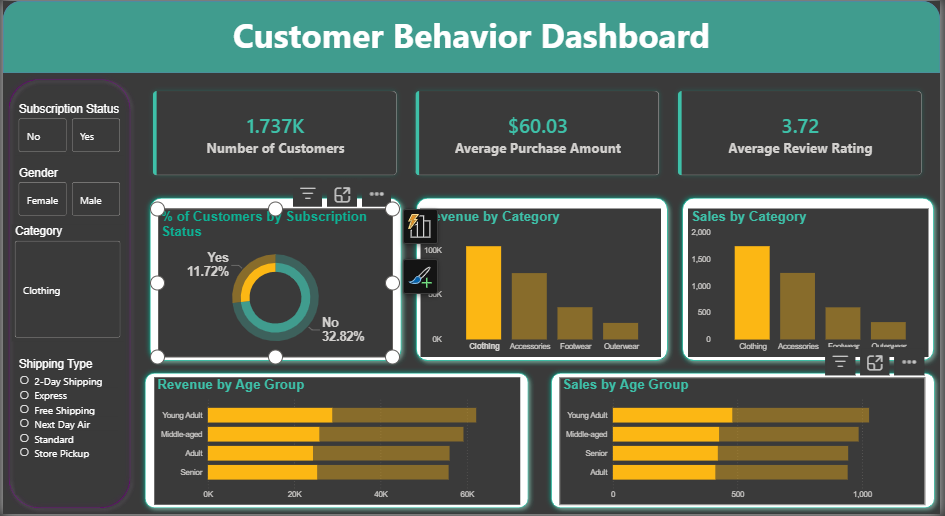

What the dashboard file says about the page in this screenshot:
{"tool":"powerbi","page":{"name":"Page 1","canvas":[1500,820],"ordinal":0},"visuals":[{"type":"cardVisual","fields":{"Data":["public customer.Number of Customers","public customer.Average Purchase Amount","public customer.Average Review Rating"]},"box":[212.9,115.3,1286.5,191.6],"z":2000},{"type":"shape","box":[218.3,585.6,631.7,234.2],"z":2500,"group":"g1"},{"type":"shape","box":[0,0,1499.4,115.3],"z":3000},{"type":"textbox","box":[0,12.4,1499.4,102.9],"z":4000},{"type":"shape","box":[225.4,307,420.5,278.6],"z":5000},{"type":"donutChart","title":"% of Customers by Subscription Status","fields":{"Category":["public customer.subscription_status"],"Y":["CountNonNull(public customer.customer_id)"]},"box":[248.4,331.8,376.2,237.8],"z":6000},{"type":"shape","box":[1078.9,307,420.5,278.6],"z":7000},{"type":"shape","box":[652.1,307,420.5,278.6],"z":8000},{"type":"clusteredColumnChart","title":"Revenue by Category","fields":{"Y":["Sum(public customer.purchase_amount)"],"Category":["public customer.category"]},"box":[667.2,331.8,385.1,237.8],"z":9000},{"type":"clusteredColumnChart","title":"Sales by Category","fields":{"Y":["CountNonNull(public customer.customer_id)"],"Category":["public customer.category"]},"box":[1096.6,331.8,385.1,237.8],"z":10000},{"type":"shape","box":[0,115.3,212.9,704.5],"z":11000},{"type":"advancedSlicerVisual","fields":{"Values":["public customer.subscription_status"]},"box":[19.5,161.5,173.9,85.2],"z":12000},{"type":"advancedSlicerVisual","fields":{"Values":["public customer.gender"]},"box":[19.5,264.4,173.9,85.2],"z":13000},{"type":"advancedSlicerVisual","fields":{"Values":["public customer.category"]},"box":[14.2,358.4,179.2,186.3],"z":14000},{"type":"listSlicer","fields":{"Values":["public customer.shipping_type"]},"box":[19.5,569.6,168.6,220],"z":15000},{"type":"shape","box":[867.7,585.6,631.7,234.2],"z":16000},{"type":"clusteredBarChart","title":"Sales by Age Group","fields":{"Y":["CountNonNull(public customer.customer_id)"],"Category":["public customer.age_group"]},"box":[890.8,601.5,585.6,204.1],"z":17000},{"type":"clusteredBarChart","title":"Revenue by Age Group","fields":{"Y":["Sum(public customer.purchase_amount)"],"Category":["public customer.age_group"]},"box":[241.4,601.6,585.6,204.1],"z":17500,"group":"g1"},{"type":"group","id":"g1","title":"Group 1","box":[218.3,585.6,631.7,234.2],"z":17501}]}

Visuals, with their boxes in screenshot pixels (x1, y1, x2, y2), scaled from the page's 1500x820 canvas onto the 945x516 screenshot:
cardVisual - public customer.Number of Customers x public customer.Average Purchase Amount: select_region(134, 73, 944, 193)
shape: select_region(138, 368, 536, 515)
shape: select_region(0, 0, 944, 73)
textbox: select_region(0, 8, 944, 73)
shape: select_region(142, 193, 407, 368)
"% of Customers by Subscription Status" donutChart: select_region(156, 209, 393, 358)
shape: select_region(680, 193, 944, 368)
shape: select_region(411, 193, 676, 368)
"Revenue by Category" clusteredColumnChart: select_region(420, 209, 663, 358)
"Sales by Category" clusteredColumnChart: select_region(691, 209, 933, 358)
shape: select_region(0, 73, 134, 515)
advancedSlicerVisual - public customer.subscription_status: select_region(12, 102, 122, 155)
advancedSlicerVisual - public customer.gender: select_region(12, 166, 122, 220)
advancedSlicerVisual - public customer.category: select_region(9, 226, 122, 343)
listSlicer - public customer.shipping_type: select_region(12, 358, 119, 497)
shape: select_region(547, 368, 944, 515)
"Sales by Age Group" clusteredBarChart: select_region(561, 379, 930, 507)
"Revenue by Age Group" clusteredBarChart: select_region(152, 379, 521, 507)
"Group 1" group: select_region(138, 368, 536, 515)
